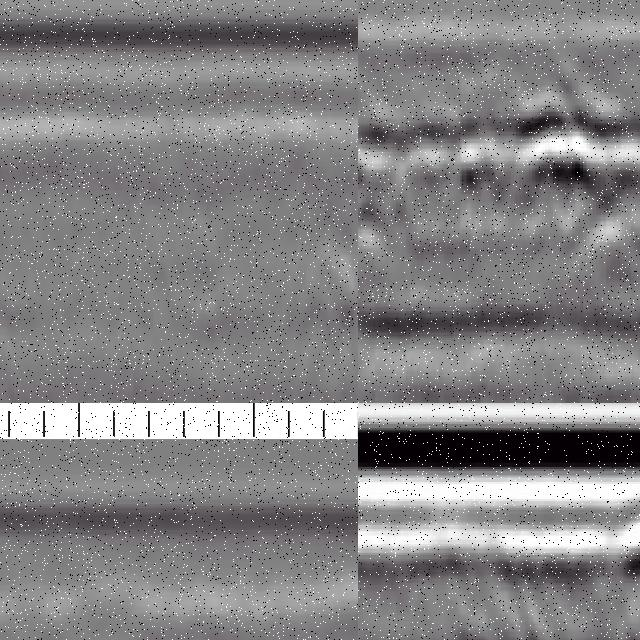loose: (359, 98, 640, 245), (456, 502, 640, 640)
